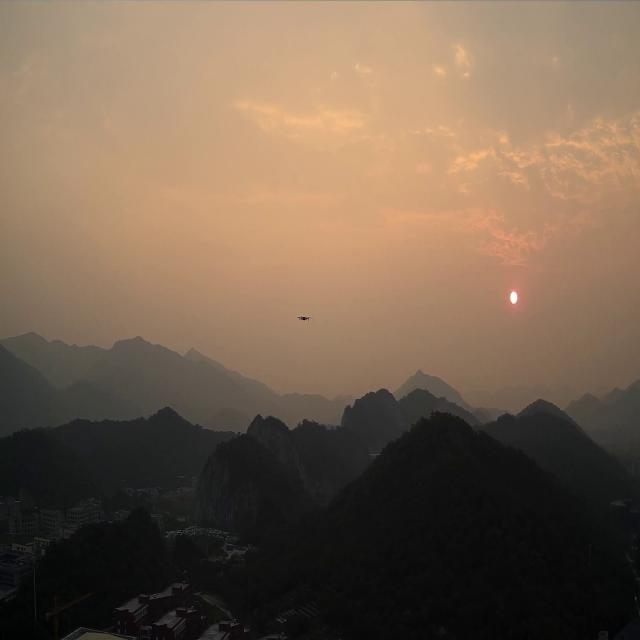drone: (296, 314, 312, 322)
